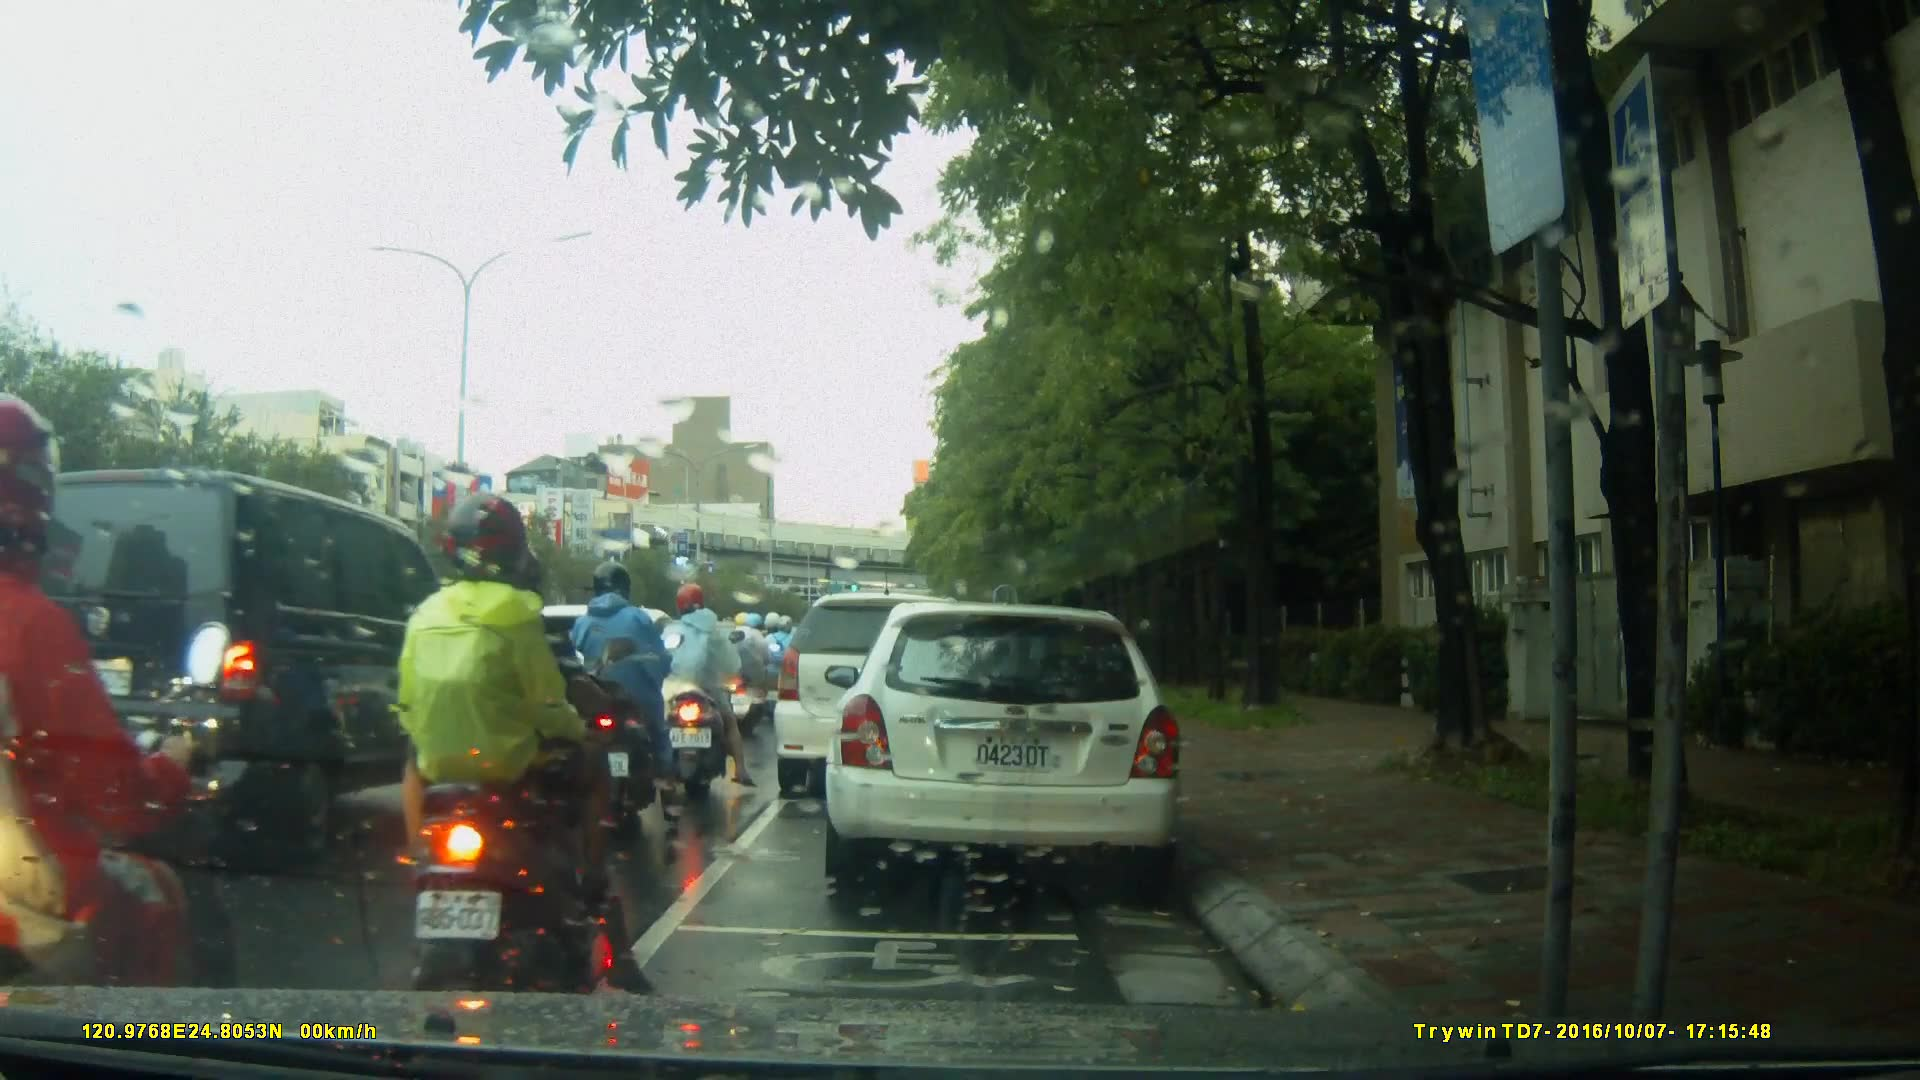rider: (2, 403, 226, 1079), (383, 490, 653, 1003), (428, 565, 588, 910), (562, 564, 680, 839), (652, 585, 747, 795), (719, 612, 773, 734)
vehicle: (17, 459, 445, 869), (822, 604, 1188, 883), (434, 597, 687, 781), (774, 595, 995, 802)
